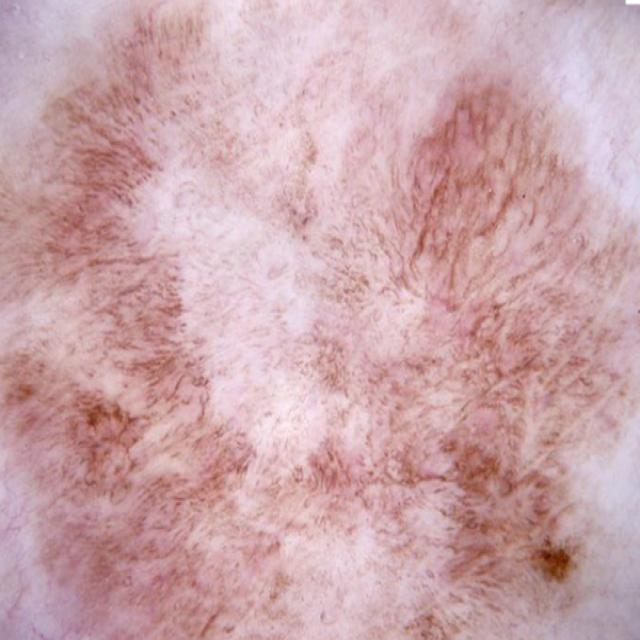Skin-Cancer Pigmented benign keratosis: (3, 6, 612, 640)
